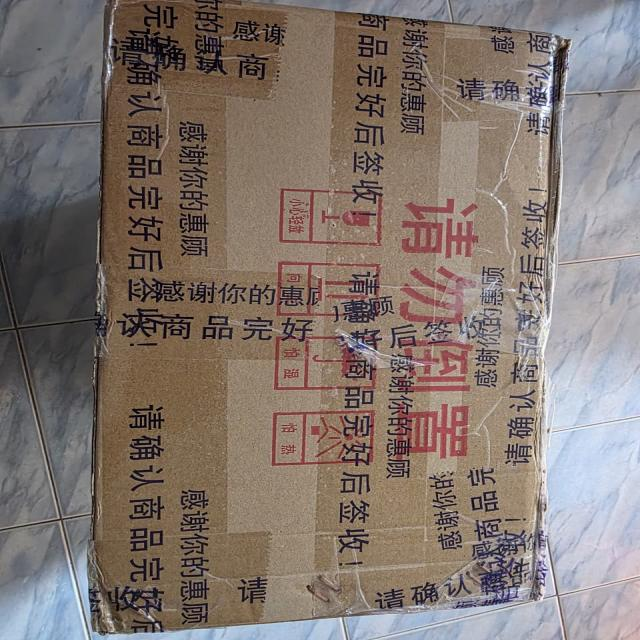carton_box: (79, 0, 594, 640)
fragile_label: (270, 173, 391, 251)
keep_dry_label: (266, 325, 394, 403)
package_damage: (545, 23, 579, 109)
protect_from_heat_label: (265, 399, 385, 479)
this_side_up_label: (270, 258, 392, 330)
